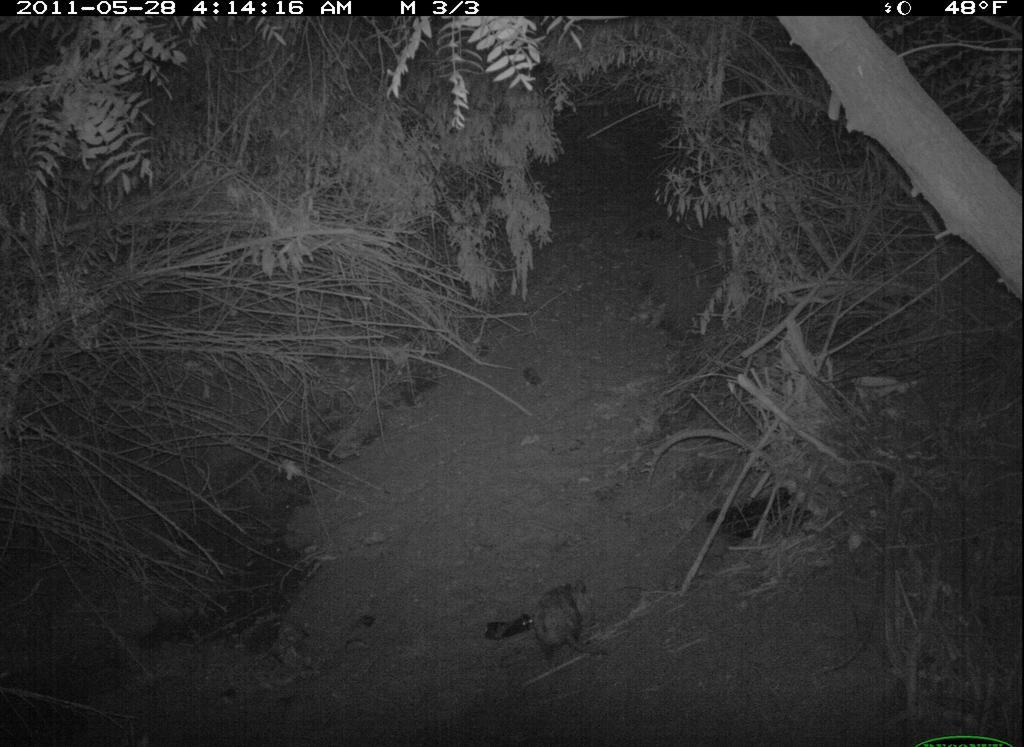opossum: (525, 568, 623, 675)
